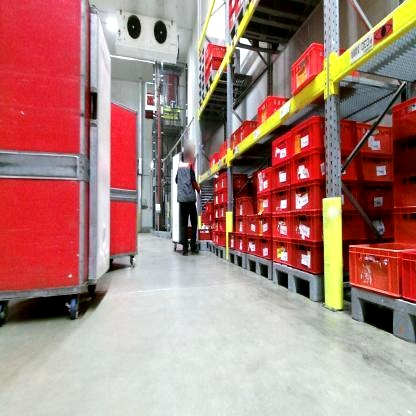pallets: (345, 280, 416, 346), (269, 262, 328, 305), (246, 254, 276, 282), (194, 42, 209, 92), (224, 248, 248, 272), (205, 242, 228, 261), (203, 70, 222, 93), (196, 91, 208, 111)
